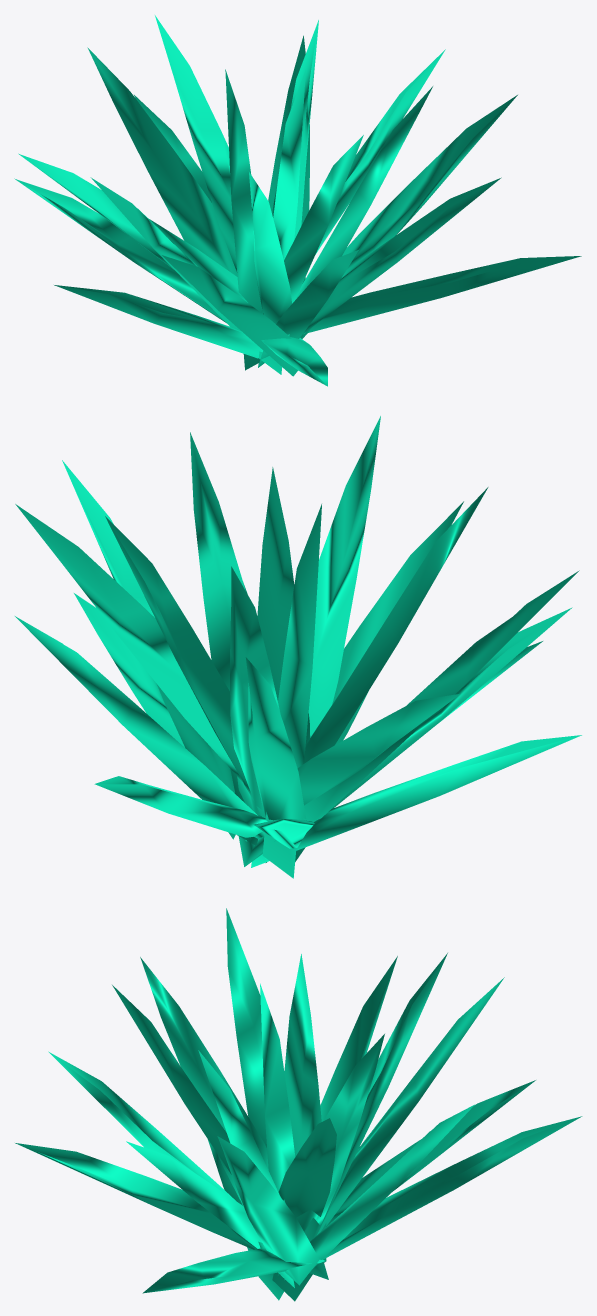
The model's file is Agave_LOD1.obj.
3 renders of one model, top to bottom at view 1: azimuth 30°, elevation 25°; view 2: azimuth 150°, elevation 25°; view 3: azimuth 270°, elevation 25°, orthographic. The views are drawn at different scales.
Visible parts, largest first — view 1: Agave_LOD1; view 2: Agave_LOD1; view 3: Agave_LOD1.
Boxes of the visible parts, box(x1,y1,x2,y2) form: Agave_LOD1: box(14, 15, 581, 386); Agave_LOD1: box(15, 416, 581, 878); Agave_LOD1: box(15, 908, 582, 1301).
Bounding box in the file's own units: 183 × 117 × 188.
